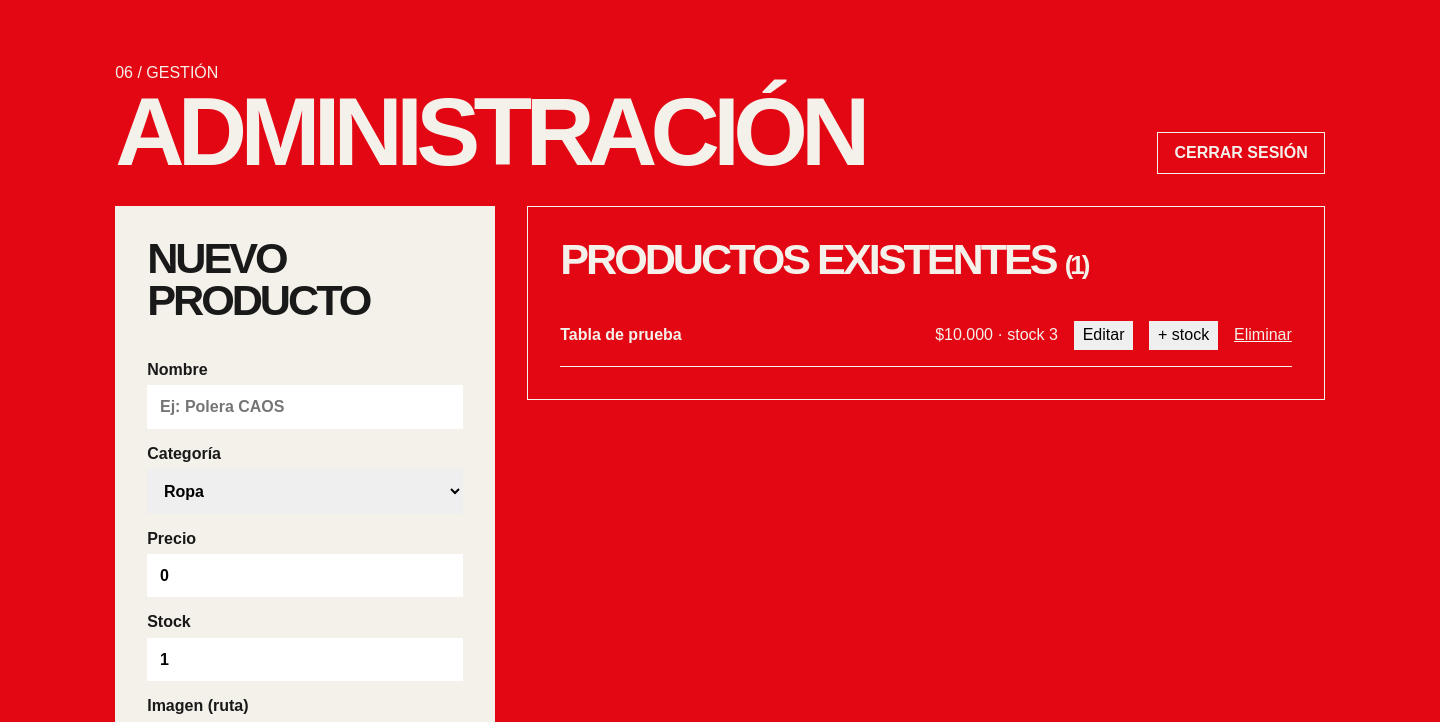
Test: panel de administración › muestra un error cuando el producto no tiene nombre
Replace the text in the number field with placeholder "Precio" with "25000". click: (305, 576)
box: [147,554,463,598]
(page scrolled)
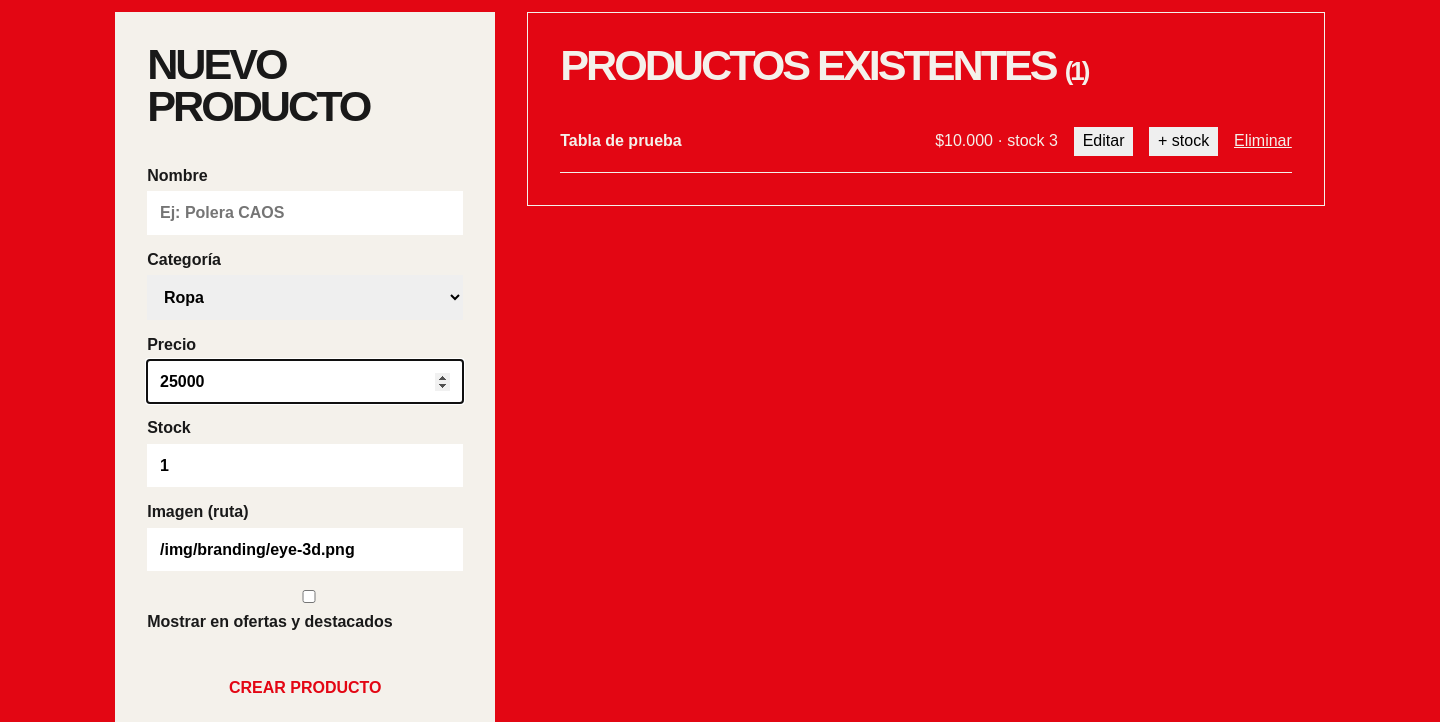
Click the button "Crear producto". click: (305, 688)
box: [147,663,463,714]
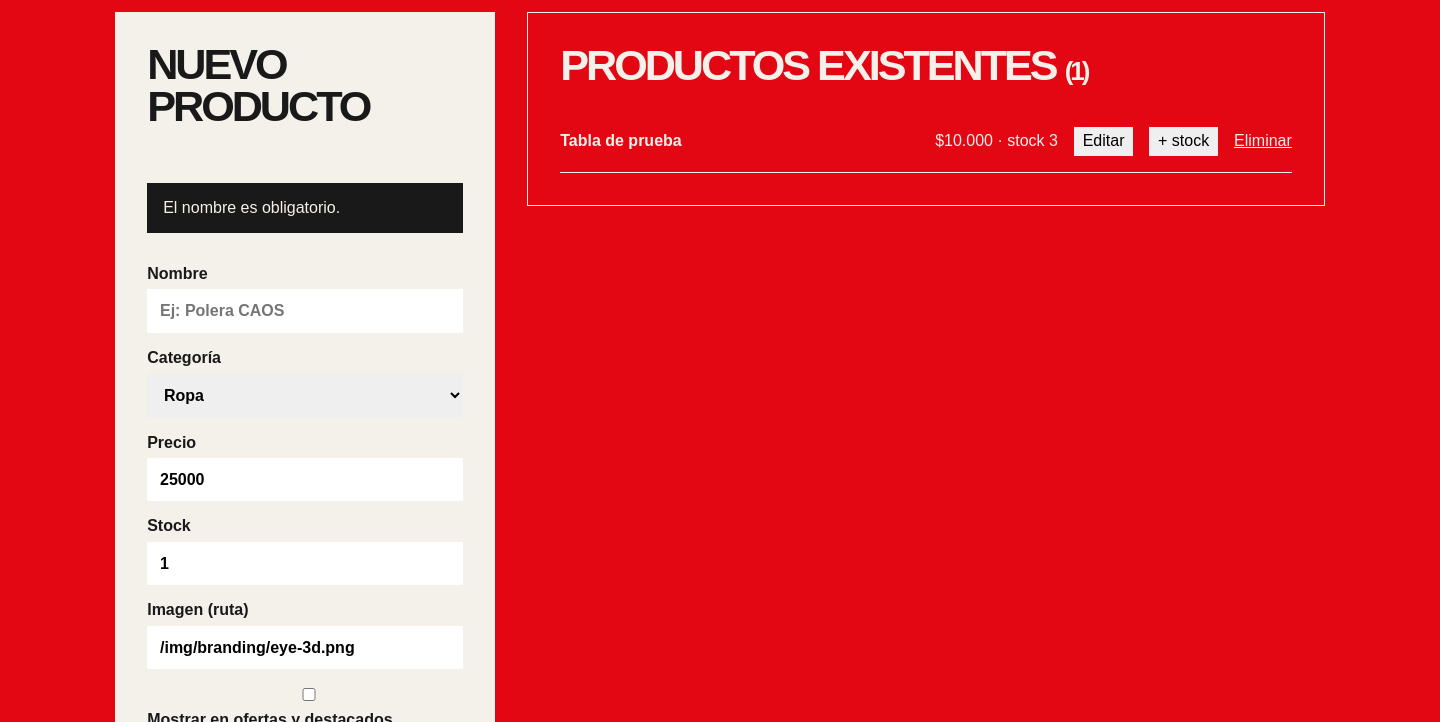
Expected: the message shows "nombre es obligatorio", [163,198,340,216]
